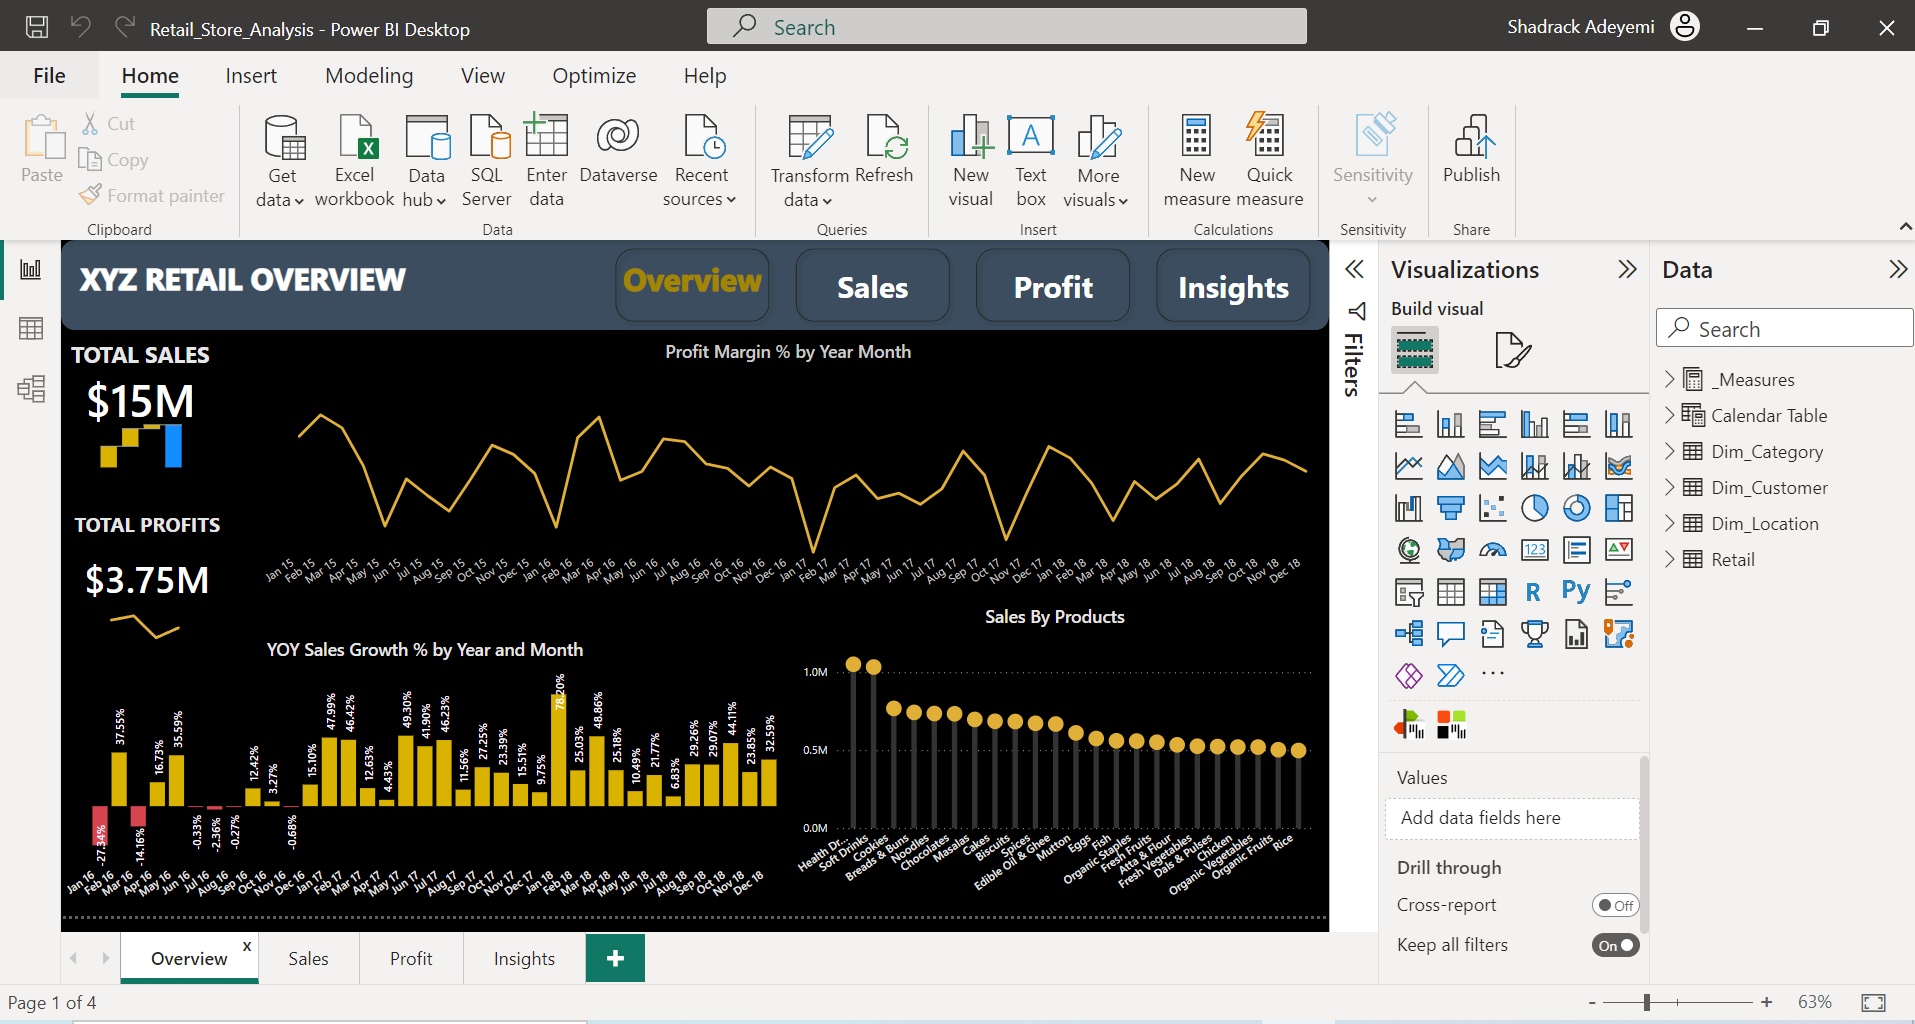

This screenshot's page, from the dashboard's own definition file:
{"tool":"powerbi","page":{"name":"Overview","canvas":[1350,720],"ordinal":0},"visuals":[{"type":"group","id":"g1","title":"Group 1","box":[0,105,168.8,142.5],"z":0},{"type":"card","title":"TOTAL SALES","fields":{"Values":["_Measures.Total Sales"]},"box":[0,105,168.8,93.8],"z":0,"group":"g1"},{"type":"lineChart","fields":{"Category":["Calendar Table.Year"],"Y":["_Measures.Profit Margin %"]},"box":[37.7,370.3,101.6,62.3],"z":0,"group":"g2"},{"type":"waterfallChart","fields":{"Category":["Calendar Table.Year"],"Y":["_Measures.Sales YOY Growth %"]},"box":[37.5,180,97.5,67.5],"z":1000,"group":"g1"},{"type":"card","title":"TOTAL PROFITS","fields":{"Values":["_Measures.Total Profit"]},"box":[0,287.5,183.8,116.2],"z":1000,"group":"g2"},{"type":"clusteredColumnChart","title":"YOY Sales Growth % by Year and Month","fields":{"Y":["_Measures.Sales YOY Growth %"],"Category":["Calendar Table.Year Month"]},"box":[0,422.5,775,297.5],"z":1000},{"type":"lineChart","fields":{"Y":["_Measures.Profit Margin %"],"Category":["Calendar Table.Year Month"]},"box":[210,105,1130,283.8],"z":2000},{"type":"lineClusteredColumnComboChart","title":"Sales By Products","fields":{"Y":["_Measures.Blank 1","_Measures.Total Sales","_Measures.Blank 2"],"Y2":["_Measures.Total Sales"],"Category":["Dim_Category.Sub Category"]},"box":[775.4,388.5,563.9,331.1],"z":3000},{"type":"group","id":"g2","title":"Group 2","box":[0,287.5,183.8,145.1],"z":4000},{"type":"shape","box":[0,0,1350,96.2],"z":5000},{"type":"textbox","box":[0,12.5,387.5,71.2],"z":6000},{"type":"pageNavigator","box":[581.2,0,758.8,96.2],"z":7000}]}

Visuals, with their boxes on the page's 1350x720 design canvas (x1, y1, x2, y2). These are canvas units, not pixel positions in the 1915x1024 screenshot, which may show the page scaled, cropped or inside an application window:
"Group 1" group: 0, 105, 169, 248
"TOTAL SALES" card: 0, 105, 169, 199
lineChart - Calendar Table.Year x _Measures.Profit Margin %: 38, 370, 139, 433
waterfallChart - Calendar Table.Year x _Measures.Sales YOY Growth %: 38, 180, 135, 248
"TOTAL PROFITS" card: 0, 288, 184, 404
"YOY Sales Growth % by Year and Month" clusteredColumnChart: 0, 422, 775, 720
lineChart - _Measures.Profit Margin % x Calendar Table.Year Month: 210, 105, 1340, 389
"Sales By Products" lineClusteredColumnComboChart: 775, 388, 1339, 720
"Group 2" group: 0, 288, 184, 433
shape: 0, 0, 1350, 96
textbox: 0, 12, 388, 84
pageNavigator: 581, 0, 1340, 96
